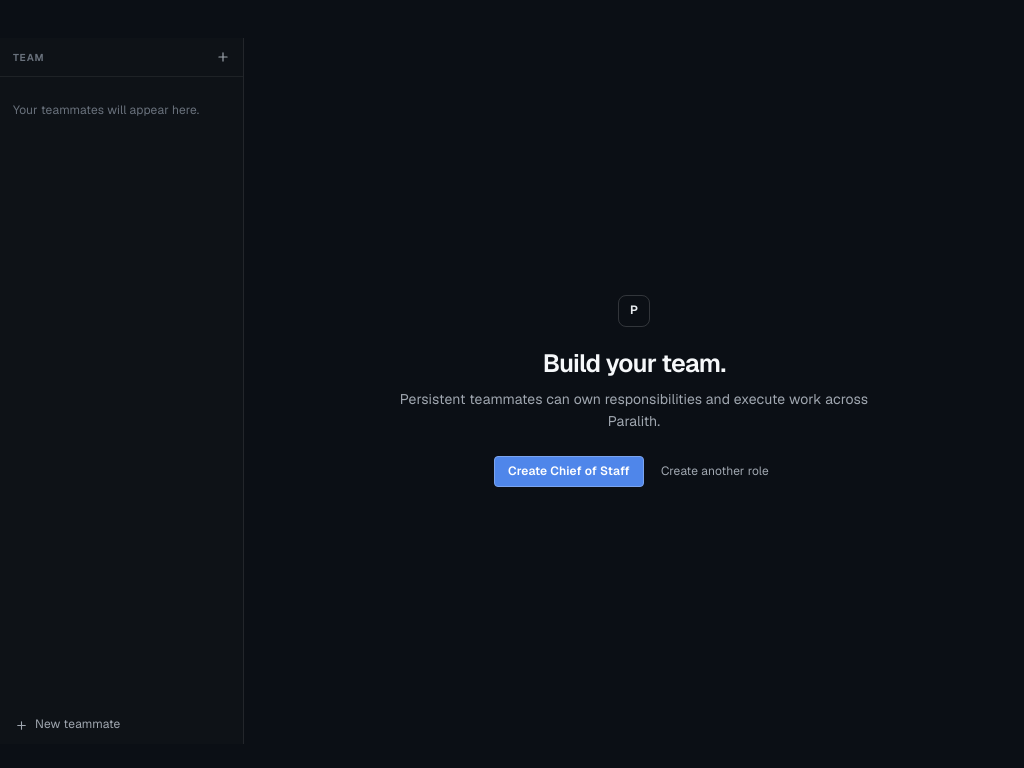
Scenario: AgentModeSurface › uses team-first onboarding instead of an empty dashboard
Expected: the heading "Build your team." is shown, 543,347 -> 725,379
Click the button "Create Chief of Staff".
click(569, 472)  # box 494,456 -> 644,487
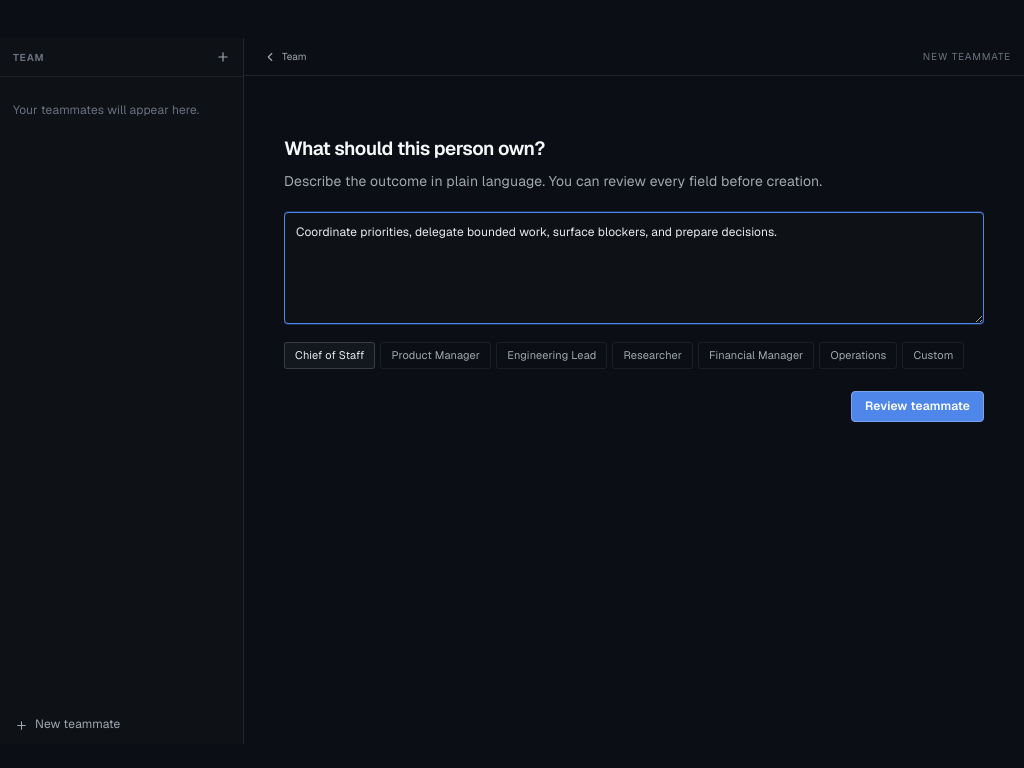
Expected: the heading "What should this person own?" is shown, 284,136 -> 545,161
